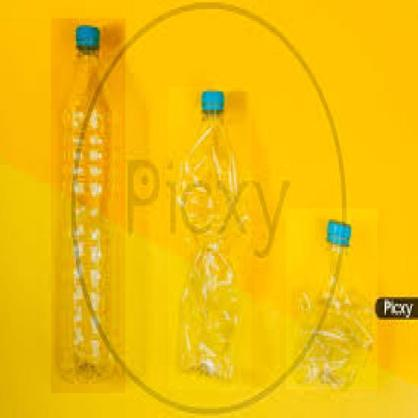bottle: (51, 18, 125, 393), (168, 86, 252, 390), (286, 208, 378, 390)
cap: (319, 219, 357, 250), (196, 88, 227, 121), (73, 22, 103, 52)
